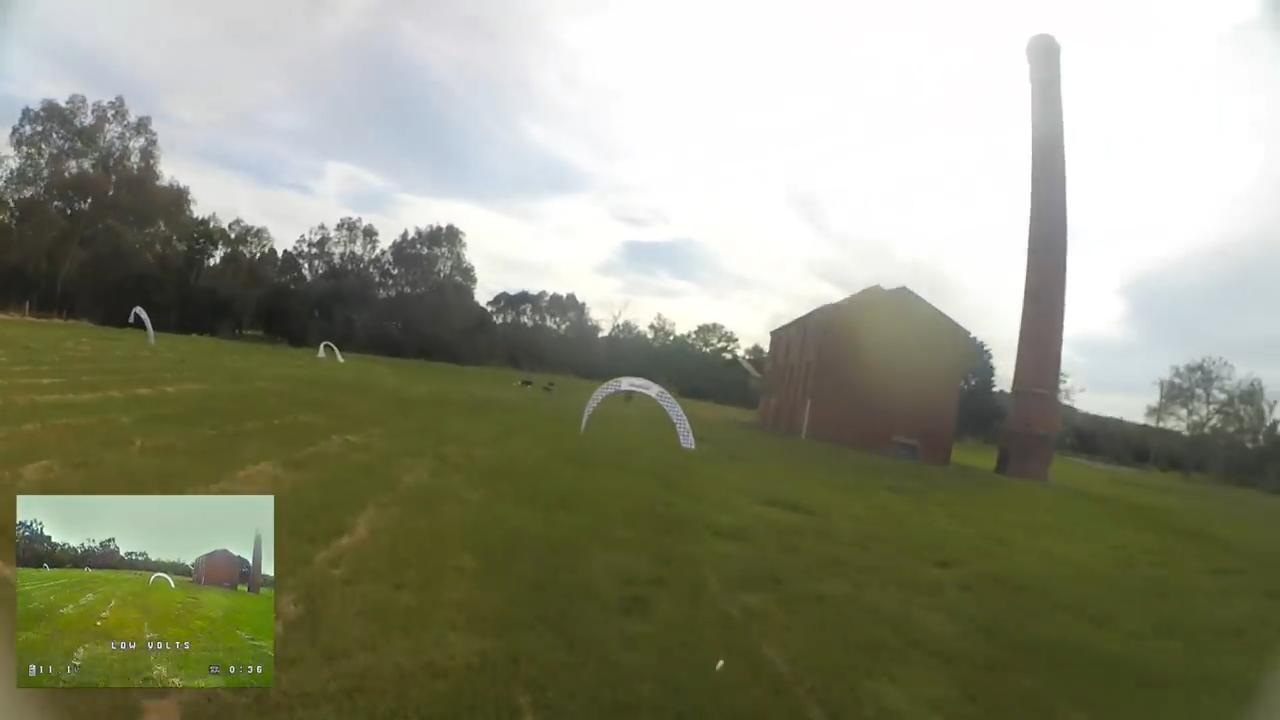gate: (574, 373, 698, 450), (127, 304, 160, 346), (318, 341, 344, 364)
